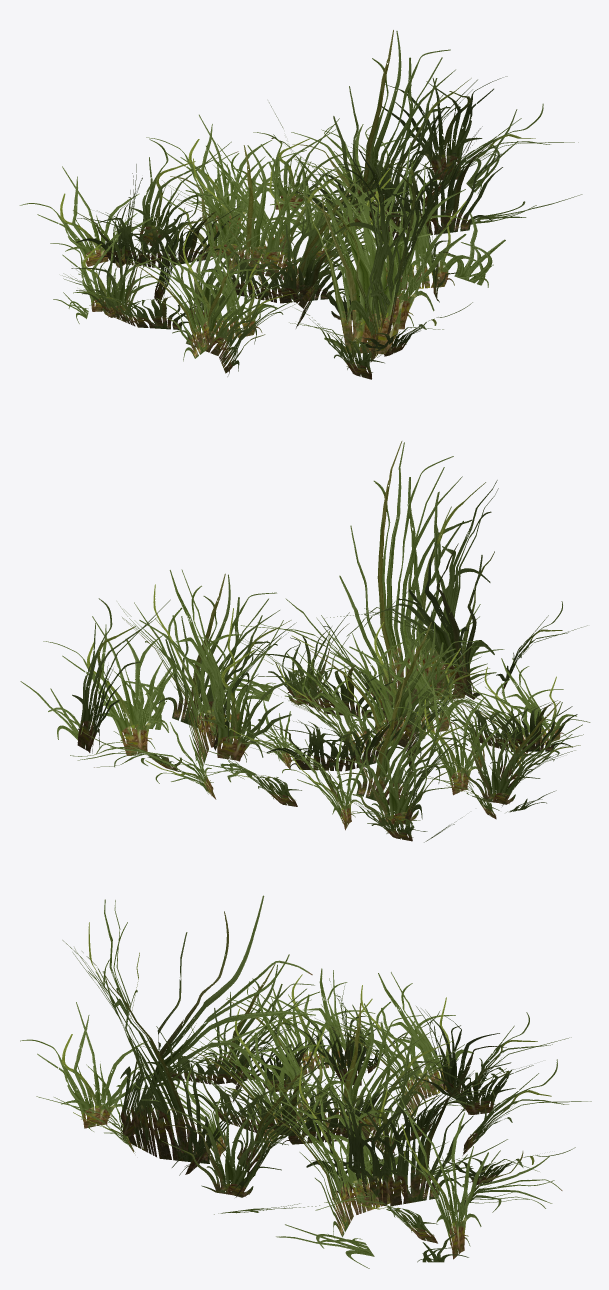
The model's file is SM_Fol_Grass_Set5.fbx.
3 views of the same model, one above another, from view 1: azimuth 30°, elevation 25°; view 2: azimuth 150°, elevation 25°; view 3: azimuth 270°, elevation 25° (orthographic). The views are drawn at different scales.
Visible parts, largest first — view 1: SM_Fol_Grass_Set5; view 2: SM_Fol_Grass_Set5; view 3: SM_Fol_Grass_Set5.
Boxes of the visible parts, <box> form: SM_Fol_Grass_Set5: <box>19,30,582,379</box>; SM_Fol_Grass_Set5: <box>20,441,590,842</box>; SM_Fol_Grass_Set5: <box>20,895,591,1268</box>.
Bounding box in the file's own units: 152 × 142 × 70.52.
1 material, 1 textured.
